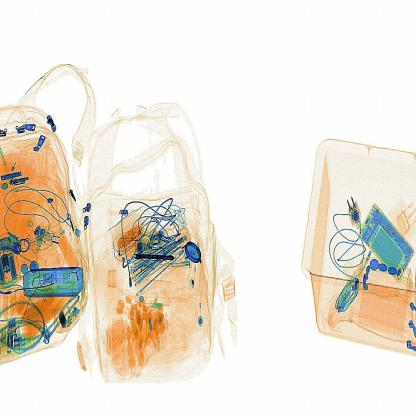knife: (133, 249, 179, 265)
